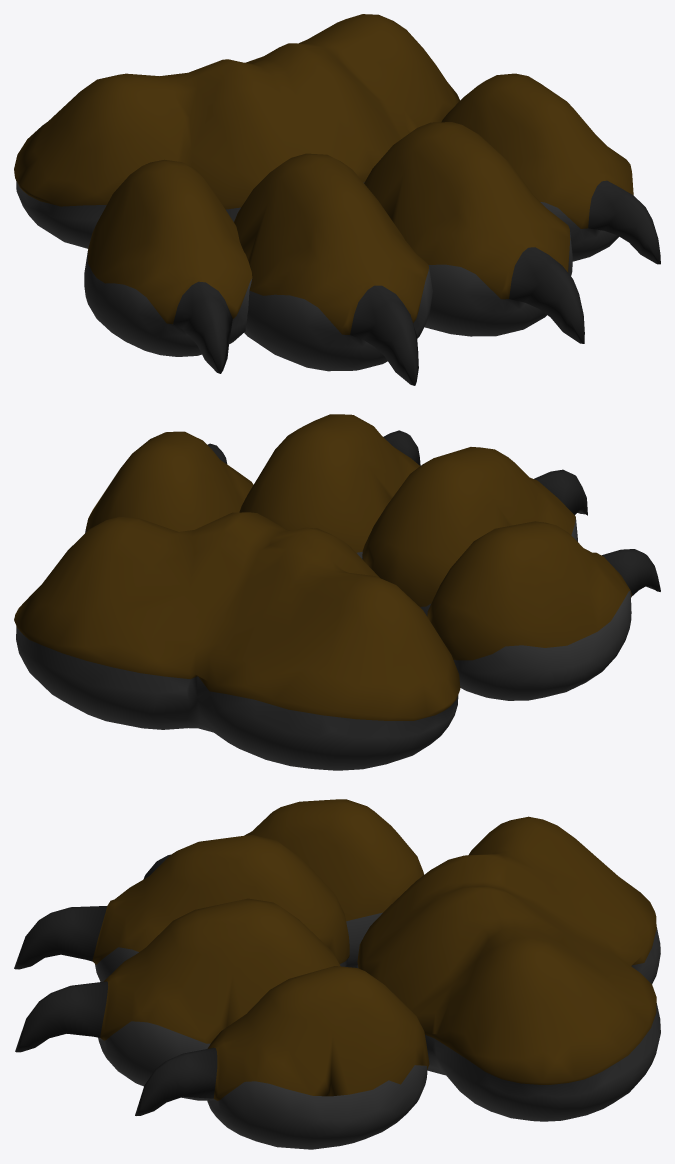
Rendered from werewolf_201808_022.fbx.
3 renders of one model, top to bottom at view 1: azimuth 30°, elevation 25°; view 2: azimuth 150°, elevation 25°; view 3: azimuth 270°, elevation 25°, orthographic.
Visible parts, largest first — view 1: Paw; view 2: Paw; view 3: Paw.
Boxes of the visible parts, x1,y1,x2,y2 form: Paw: (14,14,660,385); Paw: (14,414,660,770); Paw: (14,799,660,1149).
Size of the model in its own units: 173 by 60.01 by 188.
